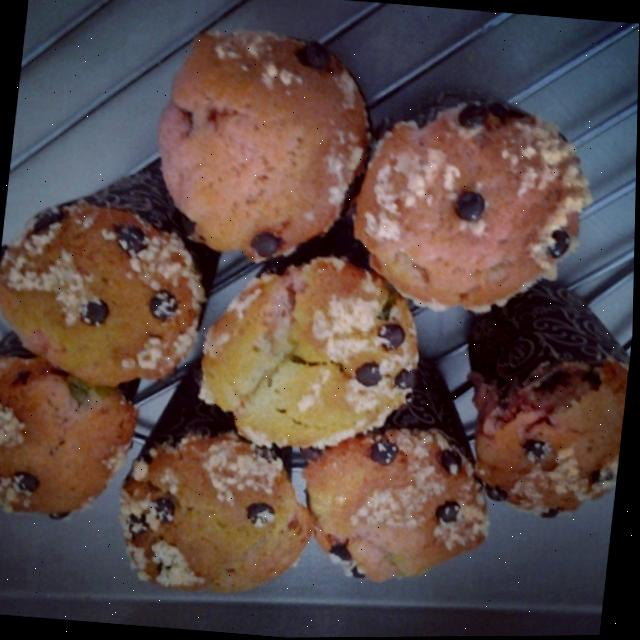炸货点心: (0, 7, 640, 622)
面包点心: (0, 7, 640, 622)
